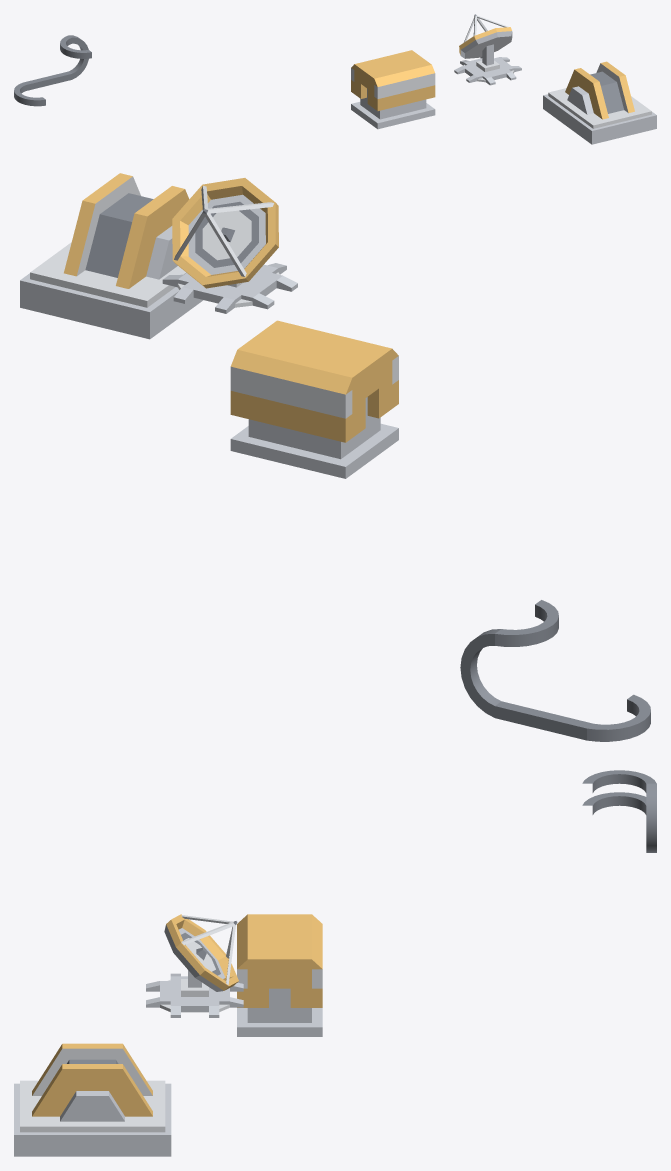
The model's file is o2-gen_lvl3.glb.
3 renders of one model, top to bottom at view 1: azimuth 30°, elevation 25°; view 2: azimuth 150°, elevation 25°; view 3: azimuth 270°, elevation 25°, orthographic. The views are drawn at different scales.
Parts seen in each view (by area): view 1: machine_generatorLarge.001, machine_generator.001, satelliteDish_detailed.001, cable.002; view 2: machine_generator.001, machine_generatorLarge.001, satelliteDish_detailed.001, cable.002; view 3: machine_generatorLarge.001, machine_generator.001, satelliteDish_detailed.001, cable.002.
Boxes of the visible parts, x1,y1,x2,y2 form: machine_generatorLarge.001: (543, 61, 656, 144); machine_generator.001: (351, 50, 435, 129); satelliteDish_detailed.001: (454, 14, 521, 85); cable.002: (14, 35, 91, 106); machine_generator.001: (230, 320, 398, 478); machine_generatorLarge.001: (20, 173, 203, 339); satelliteDish_detailed.001: (162, 178, 297, 313); cable.002: (460, 600, 650, 741); machine_generatorLarge.001: (14, 1043, 171, 1156); machine_generator.001: (237, 914, 322, 1036); satelliteDish_detailed.001: (146, 914, 243, 1017); cable.002: (582, 770, 656, 852).
Size of the model in its own units: 4.51 by 0.8823 by 3.46.
